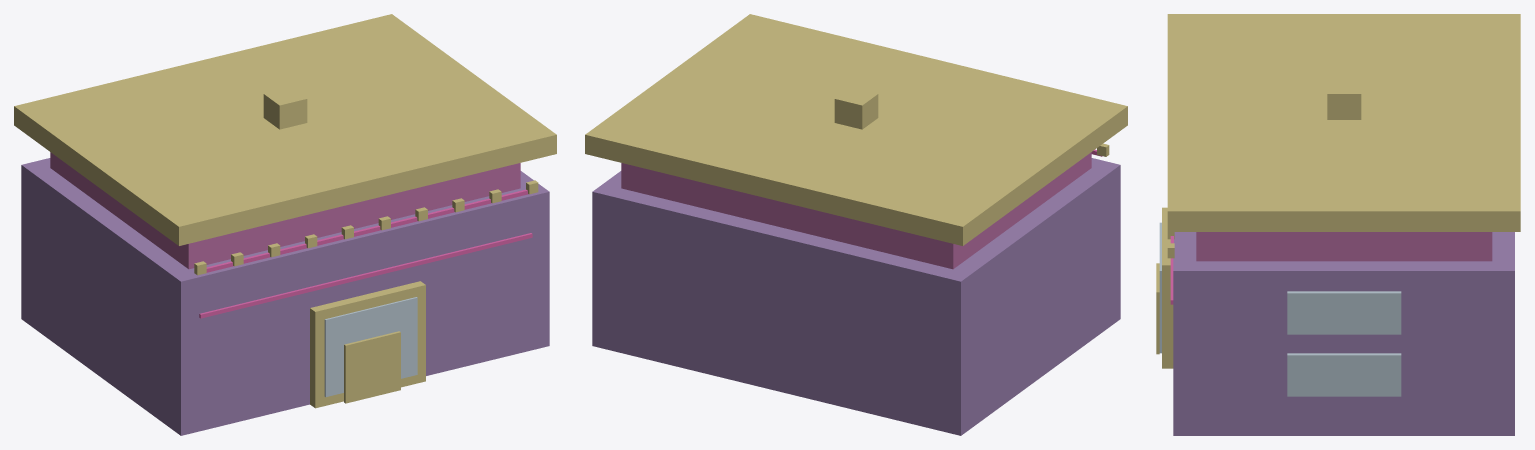
Rendered from building-casino.glb.
3 views of the same model, side by side, from view 1: azimuth 30°, elevation 25°; view 2: azimuth 150°, elevation 25°; view 3: azimuth 270°, elevation 25° (orthographic). The views are drawn at different scales.
Visible parts, largest first — view 1: building-casino_part_0, building-casino_part_2, building-casino_part_1, building-casino_part_14, building-casino_part_13, building-casino_part_15, building-casino_part_17, building-casino_part_20, building-casino_part_16; view 2: building-casino_part_0, building-casino_part_2, building-casino_part_1, building-casino_part_20; view 3: building-casino_part_2, building-casino_part_0, building-casino_part_1, building-casino_part_18, building-casino_part_19, building-casino_part_13, building-casino_part_20, building-casino_part_14, building-casino_part_15.
Part boxes in pixels (x1=…): building-casino_part_0: x1=21, y1=158, x2=549, y2=435; building-casino_part_2: x1=14, y1=14, x2=556, y2=245; building-casino_part_1: x1=50, y1=152, x2=520, y2=269; building-casino_part_14: x1=324, y1=297, x2=417, y2=397; building-casino_part_13: x1=310, y1=281, x2=425, y2=408; building-casino_part_15: x1=344, y1=331, x2=400, y2=403; building-casino_part_17: x1=199, y1=233, x2=532, y2=318; building-casino_part_20: x1=263, y1=87, x2=307, y2=129; building-casino_part_16: x1=206, y1=189, x2=528, y2=272; building-casino_part_0: x1=592, y1=158, x2=1120, y2=435; building-casino_part_2: x1=585, y1=14, x2=1127, y2=245; building-casino_part_1: x1=621, y1=152, x2=1091, y2=269; building-casino_part_20: x1=834, y1=87, x2=878, y2=129; building-casino_part_2: x1=1167, y1=14, x2=1520, y2=231; building-casino_part_0: x1=1173, y1=232, x2=1514, y2=435; building-casino_part_1: x1=1196, y1=232, x2=1492, y2=261; building-casino_part_18: x1=1287, y1=353, x2=1401, y2=396; building-casino_part_19: x1=1287, y1=291, x2=1401, y2=334; building-casino_part_13: x1=1162, y1=207, x2=1173, y2=368; building-casino_part_20: x1=1327, y1=79, x2=1361, y2=119; building-casino_part_14: x1=1159, y1=222, x2=1161, y2=353; building-casino_part_15: x1=1156, y1=263, x2=1159, y2=354.
Bounding box in the file's own units: 20.5 × 12.25 × 16.01.
